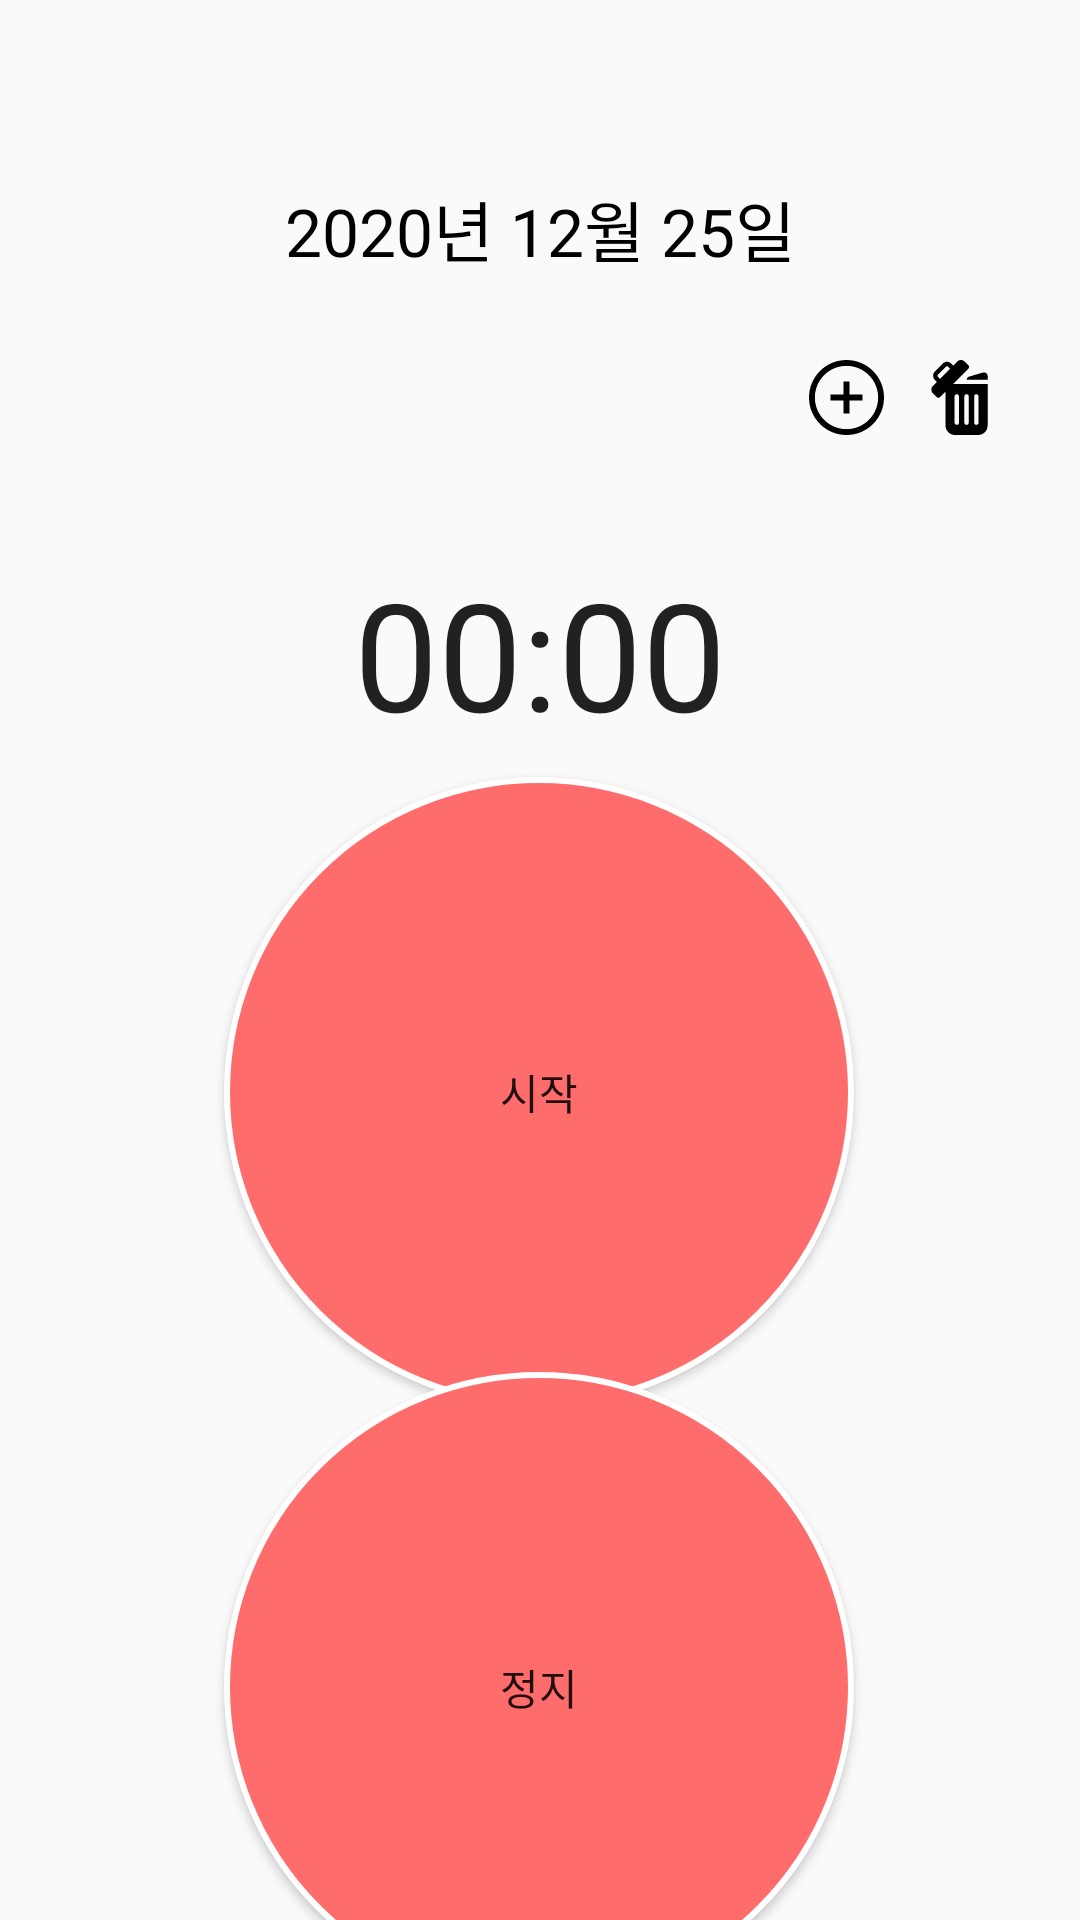

Locate icon controls on the screen. Image size 1080 × 1920, boxes as (x1, y1, x2, y2).
delete: (931, 360, 988, 435)
plus: (809, 360, 884, 435)
